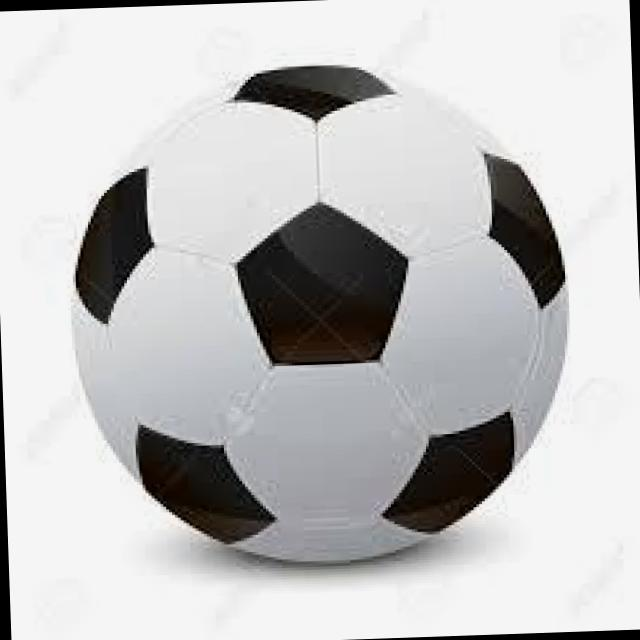Soccer Ball: (66, 54, 574, 572)
